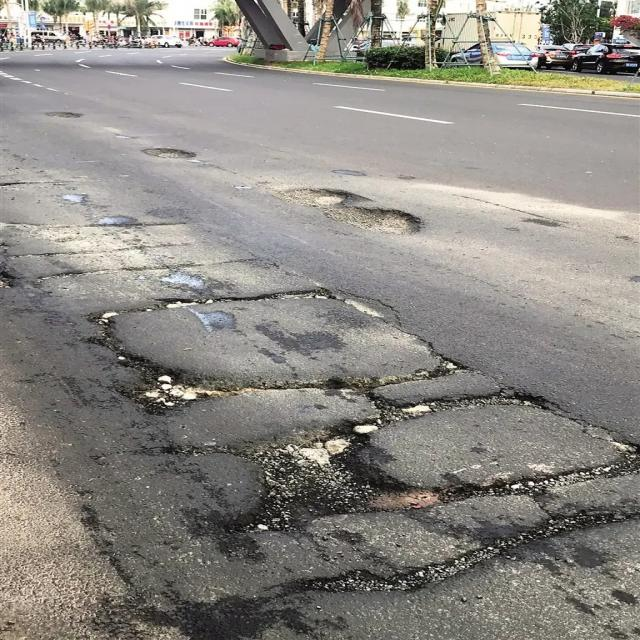Pothole: (186, 416, 633, 526), (207, 530, 526, 597), (79, 311, 247, 412), (302, 353, 552, 415), (273, 188, 419, 234), (188, 289, 354, 305), (139, 148, 193, 159), (44, 111, 80, 121)
